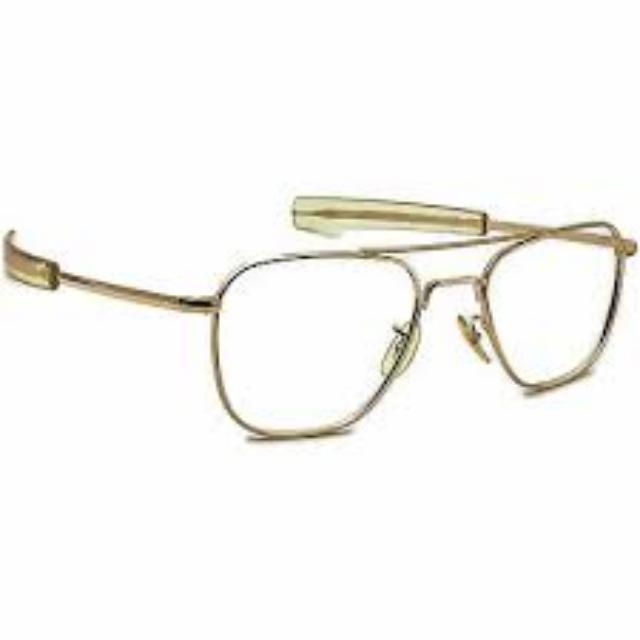mask: (1, 188, 640, 452)
